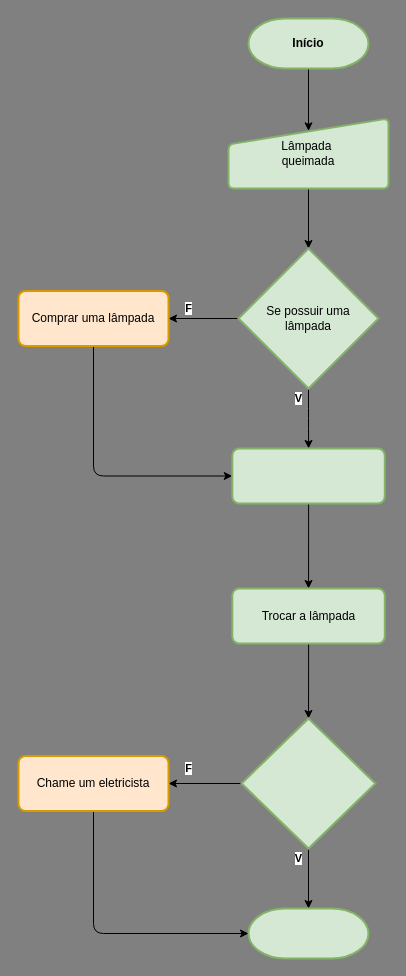
This 406x976 diagram has some shape labels left out. The shapes that lost their labels are listed below. From the top down, each one's box as (x1, y1, x2, y2) in pixels, then its label:
(231, 447, 385, 504): Posicionar a escada
(240, 717, 376, 849): Se acender
(247, 907, 369, 959): Fim
